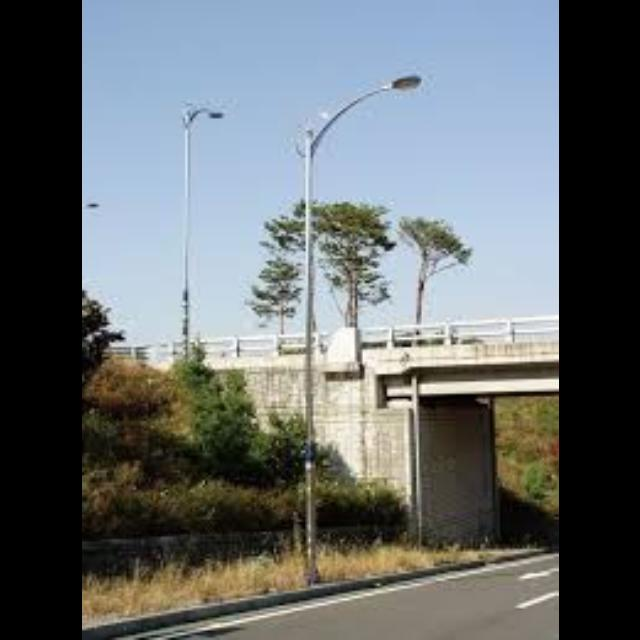Street-Lamp: (290, 35, 440, 611)
